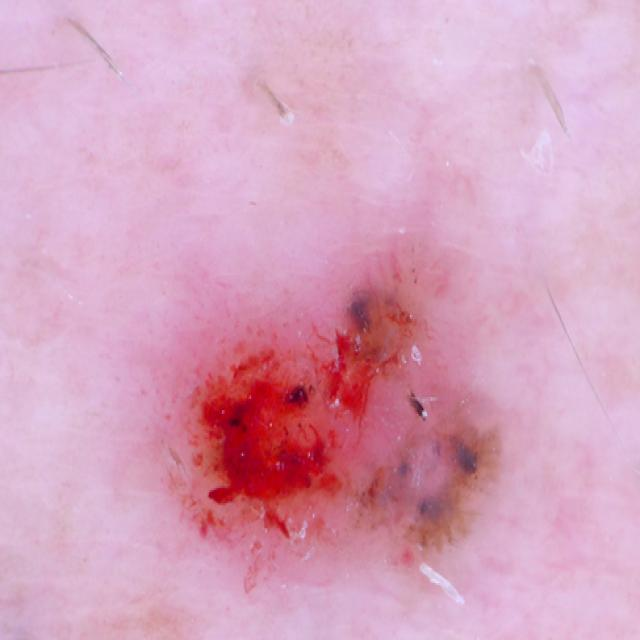Carcinoma: (168, 263, 560, 581)
